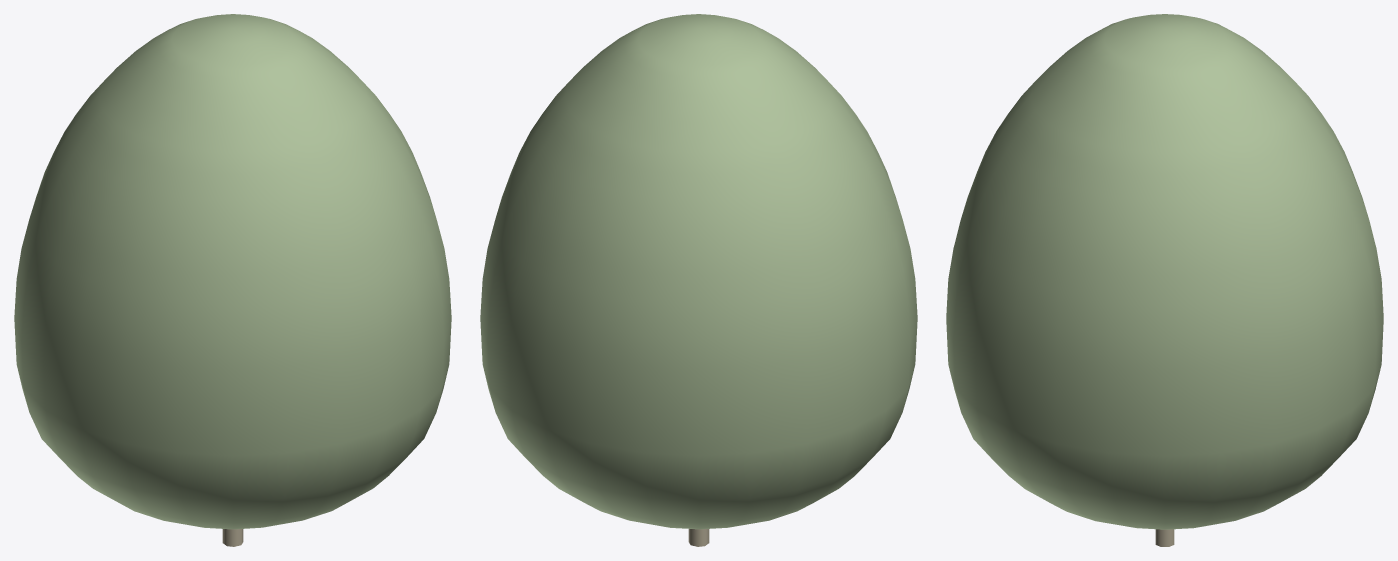
Rendered from BuxusSempervirens.glb.
The picture shows the model from 3 angles, left to right: view 1: azimuth 30°, elevation 25°; view 2: azimuth 150°, elevation 25°; view 3: azimuth 270°, elevation 25°; orthographic projection.
Visible parts, largest first — view 1: Boxwood__Schematic_LOD3; view 2: Boxwood__Schematic_LOD3; view 3: Boxwood__Schematic_LOD3.
Part boxes in pixels (x1=…): Boxwood__Schematic_LOD3: x1=14, y1=14, x2=451, y2=546; Boxwood__Schematic_LOD3: x1=480, y1=14, x2=917, y2=546; Boxwood__Schematic_LOD3: x1=946, y1=14, x2=1383, y2=546.
Size of the model in its own units: 0.84 by 1.09 by 0.84.
